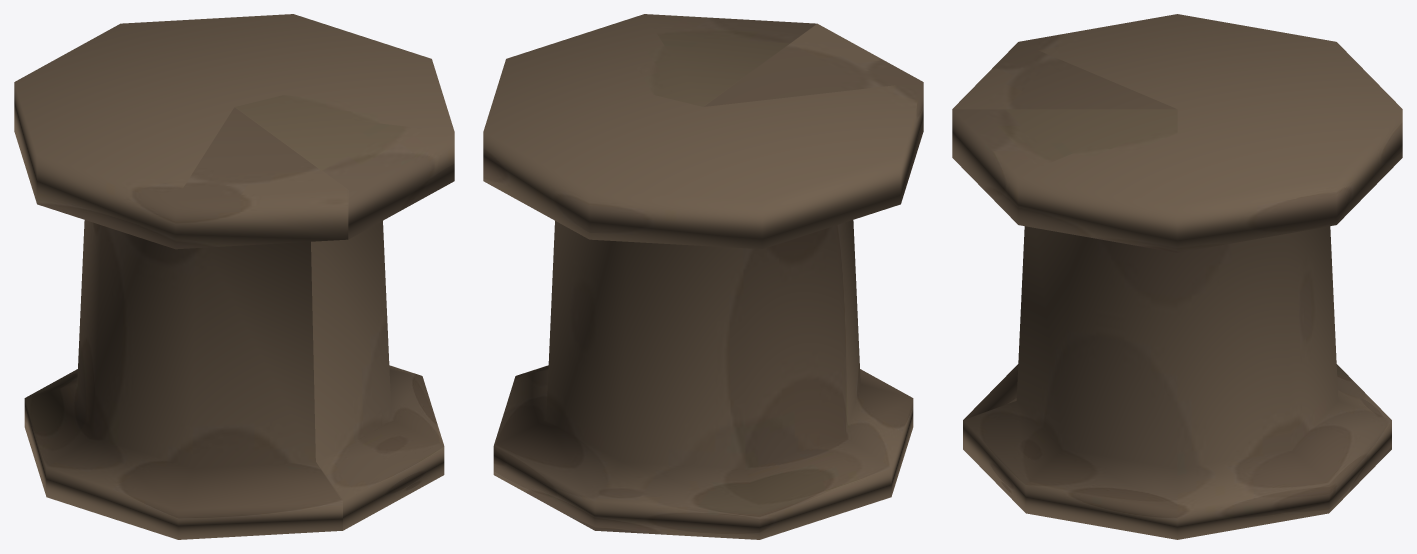
The model's file is pedestal.glb.
3 views of the same model, side by side, from view 1: azimuth 30°, elevation 25°; view 2: azimuth 150°, elevation 25°; view 3: azimuth 270°, elevation 25° (orthographic).
Visible parts, largest first — view 1: standin; view 2: standin; view 3: standin.
Part boxes in pixels (x1,y1,x2,y2): standin: (14, 14, 454, 539); standin: (483, 14, 923, 539); standin: (952, 14, 1402, 539).
Bounding box in the file's own units: 0.84 × 0.7 × 0.84.
Materials: 1 (1 with a texture image).
